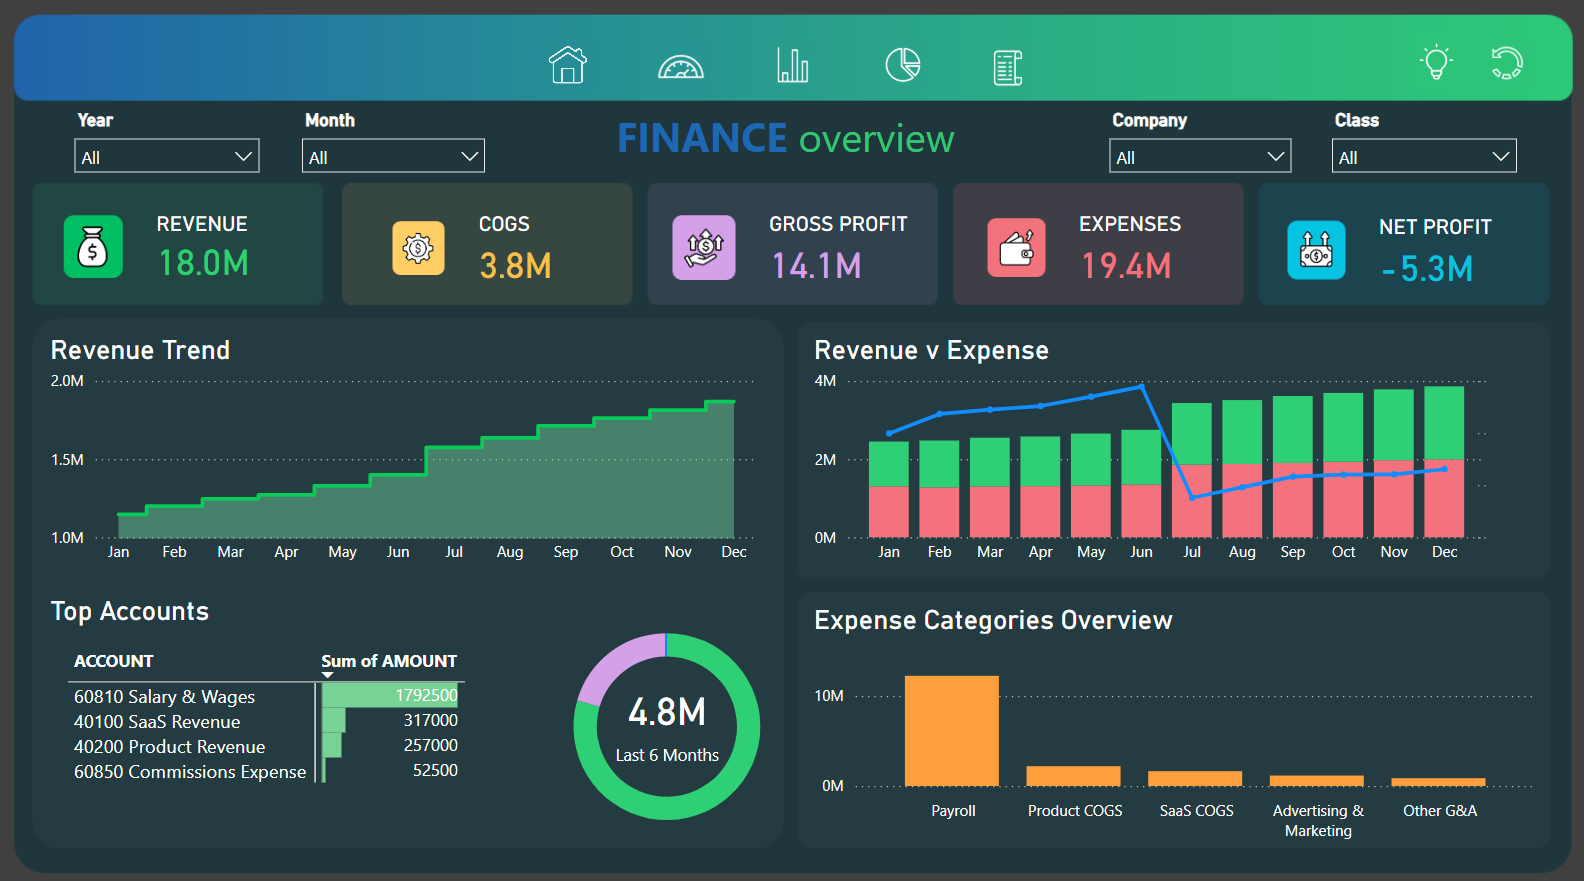

The dashboard page shown, as its layout file describes it:
{"tool":"powerbi","page":{"name":"Finance Overview","canvas":[1280,720],"ordinal":0},"visuals":[{"type":"slicer","fields":{"Values":["TRANSACTION.DATE.Variation.Date Hierarchy.Year1"]},"box":[54.5,85.8,167.5,62.6],"z":0},{"type":"slicer","fields":{"Values":["TRANSACTION.DATE.Variation.Date Hierarchy.Month1"]},"box":[235.6,85.8,167.5,62.6],"z":1000},{"type":"slicer","fields":{"Values":["TRANSACTION.NAME"]},"box":[881.9,85.7,166.5,62.7],"z":2000},{"type":"slicer","fields":{"Values":["TRANSACTION.Short_CLASS"]},"box":[1060.5,85.7,167.7,62.7],"z":3000},{"type":"cardVisual","fields":{"Data":["TRANSACTION.Revenue"]},"box":[31.4,148.4,232.8,100.1],"z":4000},{"type":"cardVisual","fields":{"Data":["TRANSACTION.COGS"]},"box":[294.4,148.4,216,100.1],"z":5000},{"type":"cardVisual","fields":{"Data":["TRANSACTION.Gross_Profit"]},"box":[517.6,148.4,244.9,100.1],"z":6000},{"type":"cardVisual","fields":{"Data":["TRANSACTION.Expenses"]},"box":[769.7,148.4,230.4,100.1],"z":7000},{"type":"cardVisual","fields":{"Data":["TRANSACTION.Net_Profit"]},"box":[1009.8,149.6,230.4,100.1],"z":8000},{"type":"areaChart","title":"Revenue Trend","fields":{"Category":["TRANSACTION.Month Name"],"Y":["TRANSACTION.Revenue"]},"box":[39.8,271.4,575.5,193],"z":9000},{"type":"donutChart","title":"Top Revenue Accounts","fields":{"Category":["TRANSACTION.ACCOUNT"],"Y":["TRANSACTION.Revenue"]},"box":[388.5,487.4,225.6,196.6],"z":10000},{"type":"cardVisual","fields":{"Data":["TRANSACTION.Revenue_Last6M"]},"box":[428.3,526,143.6,119.4],"z":11000},{"type":"pivotTable","fields":{"Rows":["TRANSACTION.ACCOUNT"],"Values":["Sum(TRANSACTION.AMOUNT)"]},"box":[54.3,517.6,360.7,156.8],"z":12000},{"type":"textbox","box":[39.8,475.3,237.7,42.2],"z":13000},{"type":"lineStackedColumnComboChart","title":"Revenue v Expense","fields":{"Category":["TRANSACTION.Month Name"],"Y":["Sum(TRANSACTION.AMOUNT)"],"Series":["TRANSACTION.REVENUE/EXPENSES"],"Y2":["TRANSACTION.Net_Profit"]},"box":[651.5,271.4,588.7,193],"z":14000},{"type":"textbox","box":[493.4,85.7,300.4,54.3],"z":15000},{"type":"clusteredColumnChart","title":"Expense Categories Overview","fields":{"Y":["TRANSACTION.Expenses"],"Category":["ACCOUNTS.LEVEL_02"]},"box":[651,487,589,197],"z":16000},{"type":"actionButton","box":[488.6,29,43.4,53.1],"z":17000},{"type":"actionButton","box":[565.5,36.2,32.6,37.4],"z":18000},{"type":"actionButton","box":[631.6,36.2,37.4,37.4],"z":19000},{"type":"actionButton","box":[702.5,36.2,33.8,37.4],"z":20000},{"type":"actionButton","box":[769.7,36.2,35,37.4],"z":21000}]}

Visuals, with their boxes in screenshot pixels (x1, y1, x2, y2), scaled from the page's 1280x720 canvas onto the 1584x881 screenshot:
slicer - TRANSACTION.DATE.Variation.Date Hierarchy.Year1: crop(67, 105, 275, 182)
slicer - TRANSACTION.DATE.Variation.Date Hierarchy.Month1: crop(292, 105, 499, 182)
slicer - TRANSACTION.NAME: crop(1091, 105, 1297, 182)
slicer - TRANSACTION.Short_CLASS: crop(1312, 105, 1520, 182)
cardVisual - TRANSACTION.Revenue: crop(39, 182, 327, 304)
cardVisual - TRANSACTION.COGS: crop(364, 182, 632, 304)
cardVisual - TRANSACTION.Gross_Profit: crop(641, 182, 944, 304)
cardVisual - TRANSACTION.Expenses: crop(953, 182, 1238, 304)
cardVisual - TRANSACTION.Net_Profit: crop(1250, 183, 1535, 306)
"Revenue Trend" areaChart: crop(49, 332, 761, 568)
"Top Revenue Accounts" donutChart: crop(481, 596, 760, 837)
cardVisual - TRANSACTION.Revenue_Last6M: crop(530, 644, 708, 790)
pivotTable - TRANSACTION.ACCOUNT x Sum(TRANSACTION.AMOUNT): crop(67, 633, 514, 825)
textbox: crop(49, 582, 343, 633)
"Revenue v Expense" lineStackedColumnComboChart: crop(806, 332, 1535, 568)
textbox: crop(611, 105, 982, 171)
"Expense Categories Overview" clusteredColumnChart: crop(806, 596, 1534, 837)
actionButton: crop(605, 35, 658, 100)
actionButton: crop(700, 44, 740, 90)
actionButton: crop(782, 44, 828, 90)
actionButton: crop(869, 44, 911, 90)
actionButton: crop(953, 44, 996, 90)
